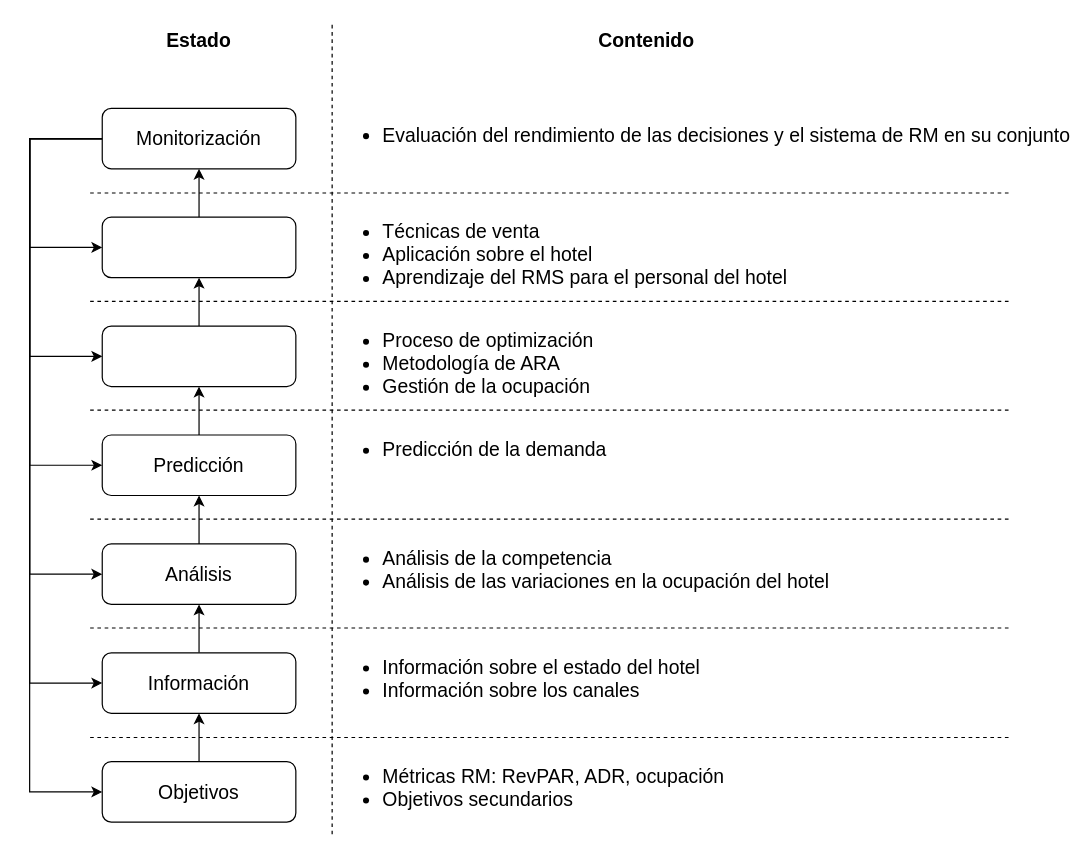
The diagram is 1091 pixels wide and 857 high, and some of its shapes have lost their labels. Here are the shapes that lost their labels. From the top down, the centre of each, then its label:
[198,247]: Implementación
[198,356]: Decisión
